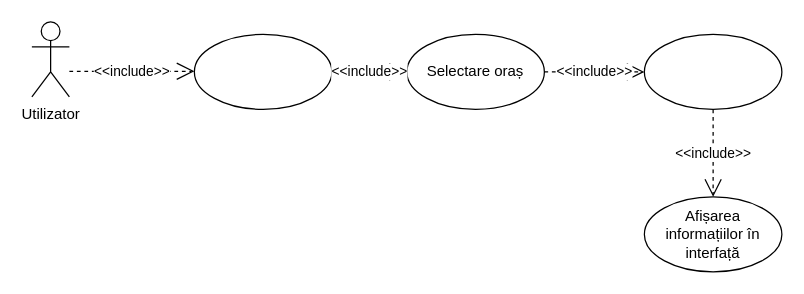
The diagram is 804 pixels wide and 294 high, and some of its shapes have lost their labels. The centre of each missing label's shape, as x and y in pixels:
"Request la server pentru obținerea informațiilor" belongs at pixel 712 71.
"Selectare țară" belongs at pixel 262 71.
